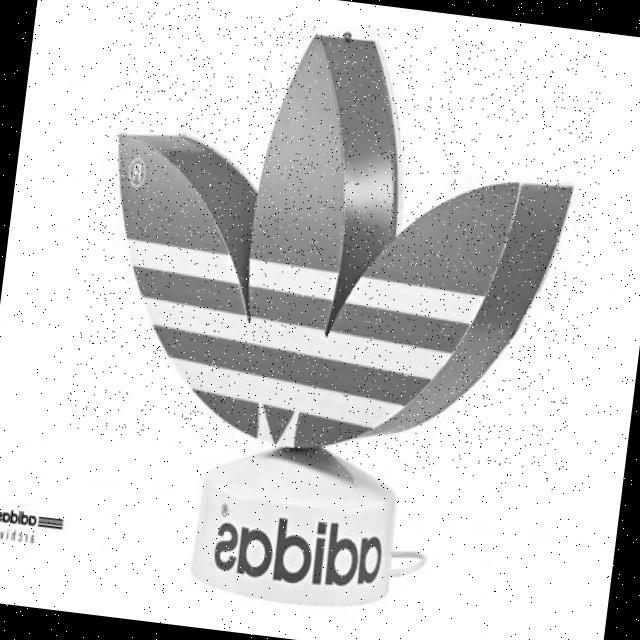Adidas: (62, 0, 614, 490)
